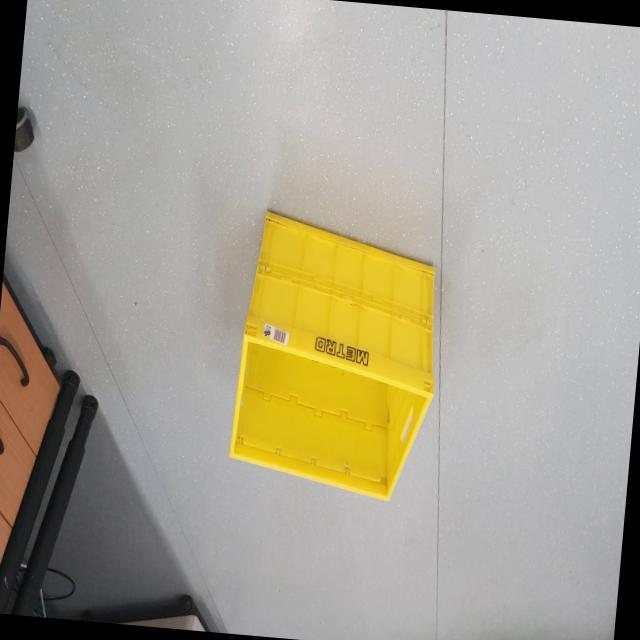box: (208, 181, 470, 534)
